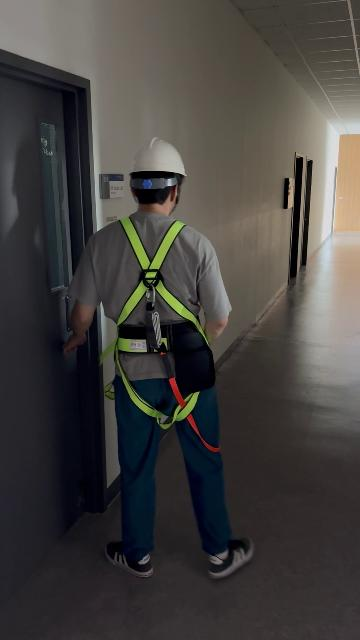helmet_worn: (128, 135, 189, 194)
shoe_not_worn: (204, 536, 257, 580), (103, 538, 156, 579)
vest_worn: (107, 218, 216, 427)
